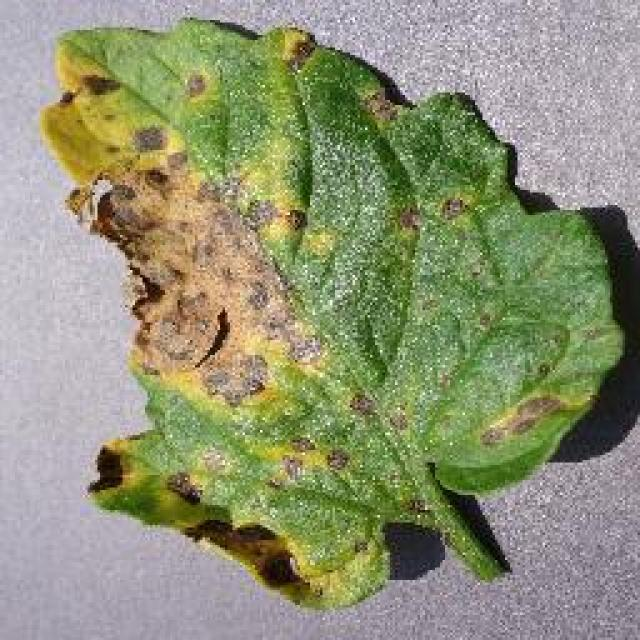Tomato target spot leaf: (39, 16, 621, 606)
